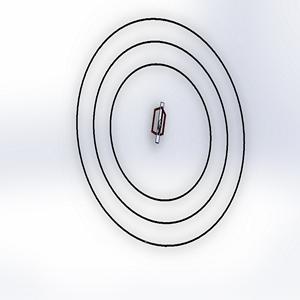circle: (68, 13, 251, 251)
submarine: (142, 97, 172, 147)
